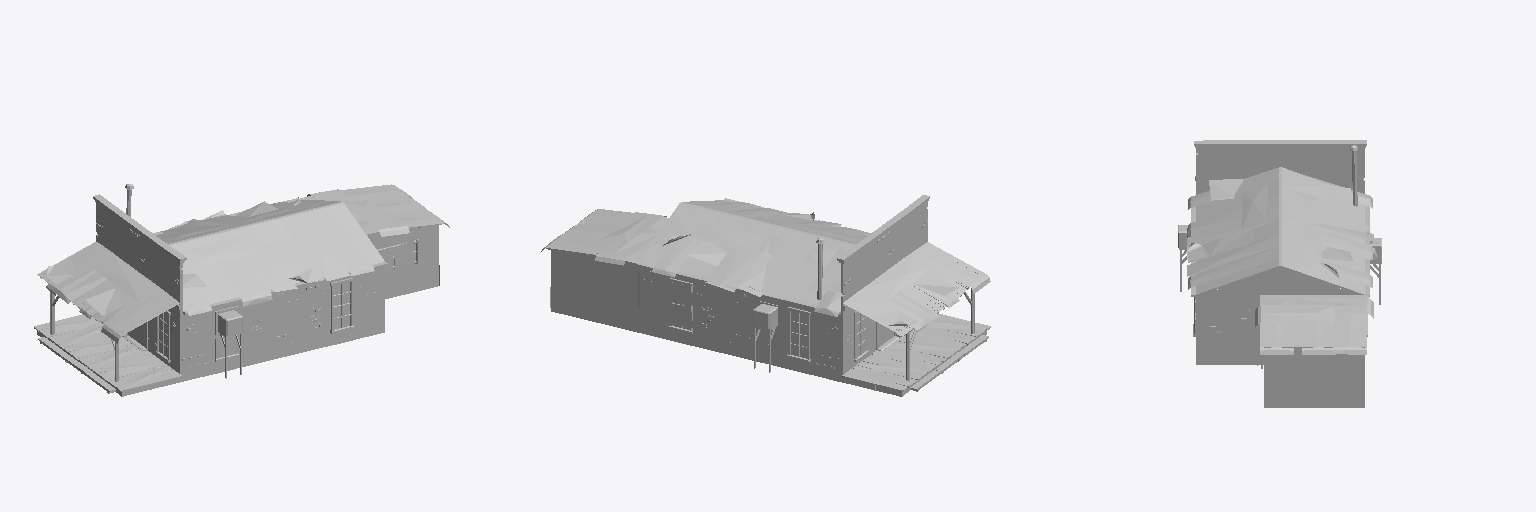
Rendered from GeneralStore.obj.
3 views of the same model, side by side, from view 1: azimuth 30°, elevation 25°; view 2: azimuth 150°, elevation 25°; view 3: azimuth 270°, elevation 25° (orthographic).
Parts seen in each view (by area): view 1: GeneralStore:__PrenotatoPerDuplicare_0, GeneralStore:__PrenotatoPerDuplicare_2, GeneralStore:__PrenotatoPerDuplicare_4, GeneralStore:__PrenotatoPerDuplicare_1, GeneralStore:__PrenotatoPerDuplicare_3; view 2: GeneralStore:__PrenotatoPerDuplicare_0, GeneralStore:__PrenotatoPerDuplicare_2, GeneralStore:__PrenotatoPerDuplicare_4, GeneralStore:__PrenotatoPerDuplicare_1, GeneralStore:__PrenotatoPerDuplicare_3; view 3: GeneralStore:__PrenotatoPerDuplicare_0, GeneralStore:__PrenotatoPerDuplicare_4, GeneralStore:__PrenotatoPerDuplicare_2.
Part boxes in pixels (left/top/right/bottom): GeneralStore:__PrenotatoPerDuplicare_0: left=37, top=184, right=449, bottom=395; GeneralStore:__PrenotatoPerDuplicare_2: left=34, top=194, right=441, bottom=396; GeneralStore:__PrenotatoPerDuplicare_4: left=96, top=204, right=384, bottom=381; GeneralStore:__PrenotatoPerDuplicare_1: left=103, top=212, right=172, bottom=290; GeneralStore:__PrenotatoPerDuplicare_3: left=159, top=243, right=415, bottom=357; GeneralStore:__PrenotatoPerDuplicare_0: left=541, top=198, right=990, bottom=395; GeneralStore:__PrenotatoPerDuplicare_2: left=546, top=195, right=990, bottom=396; GeneralStore:__PrenotatoPerDuplicare_4: left=638, top=213, right=927, bottom=381; GeneralStore:__PrenotatoPerDuplicare_1: left=851, top=212, right=920, bottom=289; GeneralStore:__PrenotatoPerDuplicare_3: left=673, top=282, right=865, bottom=358; GeneralStore:__PrenotatoPerDuplicare_0: left=1178, top=145, right=1381, bottom=407; GeneralStore:__PrenotatoPerDuplicare_4: left=1196, top=148, right=1364, bottom=365; GeneralStore:__PrenotatoPerDuplicare_2: left=1191, top=140, right=1369, bottom=348.
Bounding box in the file's own units: 1611 × 561 × 777.